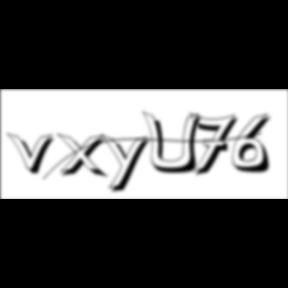6: (232, 112, 278, 176)
7: (190, 111, 244, 179)
U: (142, 110, 207, 176)
v: (7, 131, 61, 177)
x: (58, 132, 112, 181)
y: (101, 132, 155, 196)
